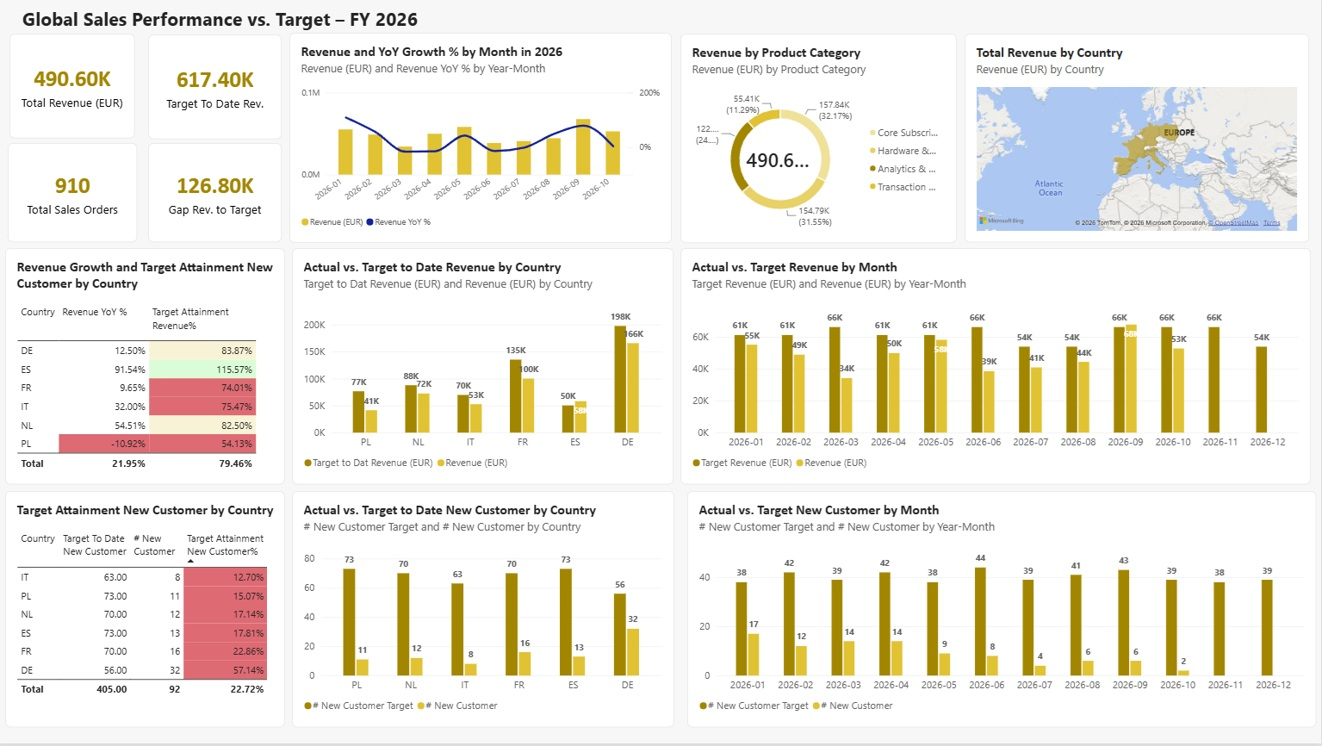

What the dashboard file says about the page in this screenshot:
{"tool":"powerbi","page":{"name":"Global Sales Performance vs. Target – FY26","canvas":[1920,1080],"ordinal":0},"visuals":[{"type":"card","fields":{"Values":["Sum(FCT_SALES.REVENUE_WITH_SIGN_EUR)"]},"box":[16.3,50,182,151.7],"z":0},{"type":"card","fields":{"Values":["Count(FCT_SALES.ORDER_ID)"]},"box":[13.3,209.3,188.1,144.1],"z":1000},{"type":"lineClusteredColumnComboChart","title":"Revenue and YoY Growth % by Month in 2026","fields":{"Category":["DIM_DATE.YEAR_MONTH"],"Y":["Sum(FCT_SALES.REVENUE_WITH_SIGN_EUR)"],"Y2":["FCT_SALES.Revenue YoY %"]},"box":[422.6,48.5,555.1,304.8],"z":2000},{"type":"filledMap","title":"Total Revenue by Country","fields":{"Category":["DIM_COUNTRY.COUNTRY_KEY"]},"box":[1402.3,50,500.5,303.3],"z":3000},{"type":"donutChart","title":"Revenue by Product Category","fields":{"Category":["DIM_PRODUCT.PRODUCT_CATEGORY"],"Y":["Sum(FCT_SALES.REVENUE_WITH_SIGN_EUR)"]},"box":[989.8,50,401.2,303.8],"z":4000},{"type":"clusteredColumnChart","title":"Actual vs. Target Revenue by Month","fields":{"Category":["DIM_DATE.YEAR_MONTH"],"Y":["Sum(FACT_SALES_TARGET.TARGET_NET_REVENUE_EUR)","Sum(FCT_SALES.REVENUE_WITH_SIGN_EUR)"]},"box":[989.7,360.9,914.5,342.7],"z":5000},{"type":"clusteredColumnChart","title":"Actual vs. Target to Date Revenue by Country","fields":{"Category":["DIM_COUNTRY.COUNTRY"],"Y":["FACT_SALES_TARGET.Target To Date","Sum(FCT_SALES.REVENUE_WITH_SIGN_EUR)"]},"box":[426.2,360.9,553.6,342.7],"z":6000},{"type":"textbox","box":[34.9,10.6,878.1,37.9],"z":7000},{"type":"clusteredColumnChart","title":"Actual vs. Target New Customer by Month","fields":{"Category":["DIM_DATE.YEAR_MONTH"],"Y":["Sum(FACT_SALES_TARGET.TARGET_NEW_CUSTOMERS)","CountNonNull(FCT_SALES.NEW_CUSTOMER)"]},"box":[1000.5,714.3,913,342.7],"z":8000},{"type":"clusteredColumnChart","title":"Actual vs. Target to Date New Customer by Country","fields":{"Category":["DIM_COUNTRY.COUNTRY"],"Y":["FACT_SALES_TARGET.Target To Date New Customer","CountNonNull(FCT_SALES.NEW_CUSTOMER)"]},"box":[425.7,714.3,555.1,342.7],"z":9000},{"type":"tableEx","title":"Revenue Growth and Target Attainment New Customer by Country","fields":{"Values":["DIM_COUNTRY.COUNTRY","FCT_SALES.Revenue YoY %","FACT_SALES_TARGET.Target Attainment %"]},"box":[10.6,360.9,406.4,342.7],"z":10000},{"type":"tableEx","title":"Target Attainment New Customer by Country","fields":{"Values":["DIM_COUNTRY.COUNTRY","FACT_SALES_TARGET.Target To Date New Customer","FCT_SALES.NEW_CUSTOMER","FACT_SALES_TARGET.Target Attainment New Customer%"]},"box":[10.6,714.3,406.4,342.7],"z":11000},{"type":"card","fields":{"Values":["FACT_SALES_TARGET.Target To Date Revenue"]},"box":[217.9,51.6,194.1,151.7],"z":12000},{"type":"card","fields":{"Values":["FACT_SALES_TARGET.Gap Revenue to Target"]},"box":[217.9,209.3,194.1,144.1],"z":13000}]}

Visuals, with their boxes in screenshot pixels (x1, y1, x2, y2), scaled from the page's 1920x1080 canvas onto the 1322x746 screenshot:
card - Sum(FCT_SALES.REVENUE_WITH_SIGN_EUR): region(11, 35, 137, 139)
card - Count(FCT_SALES.ORDER_ID): region(9, 145, 139, 244)
"Revenue and YoY Growth % by Month in 2026" lineClusteredColumnComboChart: region(291, 34, 673, 244)
"Total Revenue by Country" filledMap: region(966, 35, 1310, 244)
"Revenue by Product Category" donutChart: region(682, 35, 958, 244)
"Actual vs. Target Revenue by Month" clusteredColumnChart: region(681, 249, 1311, 486)
"Actual vs. Target to Date Revenue by Country" clusteredColumnChart: region(293, 249, 675, 486)
textbox: region(24, 7, 629, 34)
"Actual vs. Target New Customer by Month" clusteredColumnChart: region(689, 493, 1318, 730)
"Actual vs. Target to Date New Customer by Country" clusteredColumnChart: region(293, 493, 675, 730)
"Revenue Growth and Target Attainment New Customer by Country" tableEx: region(7, 249, 287, 486)
"Target Attainment New Customer by Country" tableEx: region(7, 493, 287, 730)
card - FACT_SALES_TARGET.Target To Date Revenue: region(150, 36, 284, 140)
card - FACT_SALES_TARGET.Gap Revenue to Target: region(150, 145, 284, 244)
